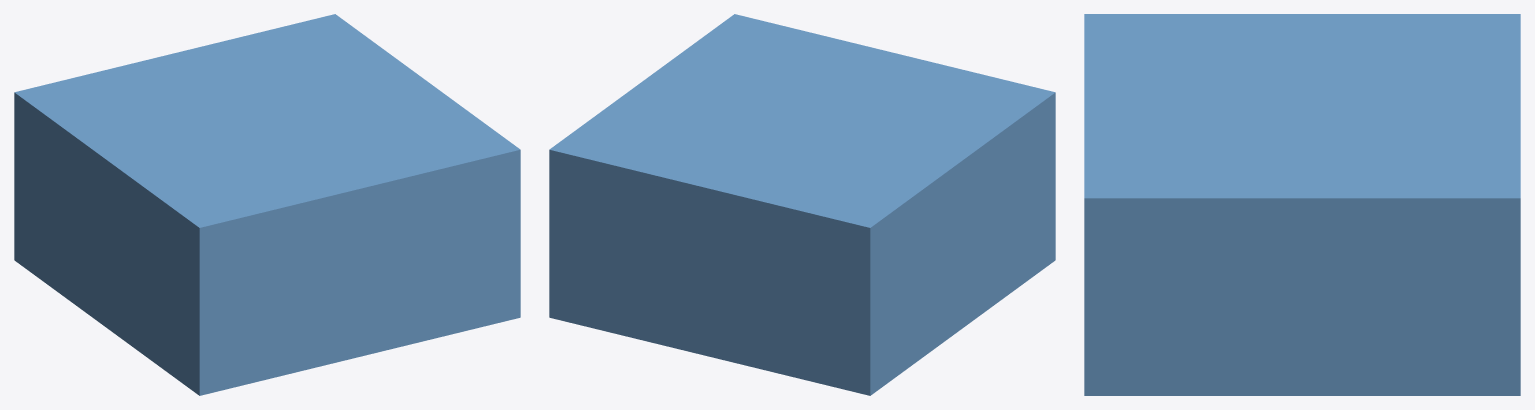
Rendered from Spawn_TopHalf.glb.
3 views of the same model, side by side, from view 1: azimuth 30°, elevation 25°; view 2: azimuth 150°, elevation 25°; view 3: azimuth 270°, elevation 25° (orthographic). The views are drawn at different scales.
Visible parts, largest first — view 1: Spawn_TopHalf_body; view 2: Spawn_TopHalf_body; view 3: Spawn_TopHalf_body.
Boxes of the visible parts, left/top/right/bottom form: Spawn_TopHalf_body: left=14, top=14, right=520, bottom=395; Spawn_TopHalf_body: left=549, top=14, right=1055, bottom=395; Spawn_TopHalf_body: left=1084, top=14, right=1520, bottom=395.
Bounding box in the file's own units: 1 × 0.5 × 1.
